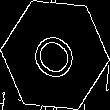O_SE: (24, 22, 86, 88)
